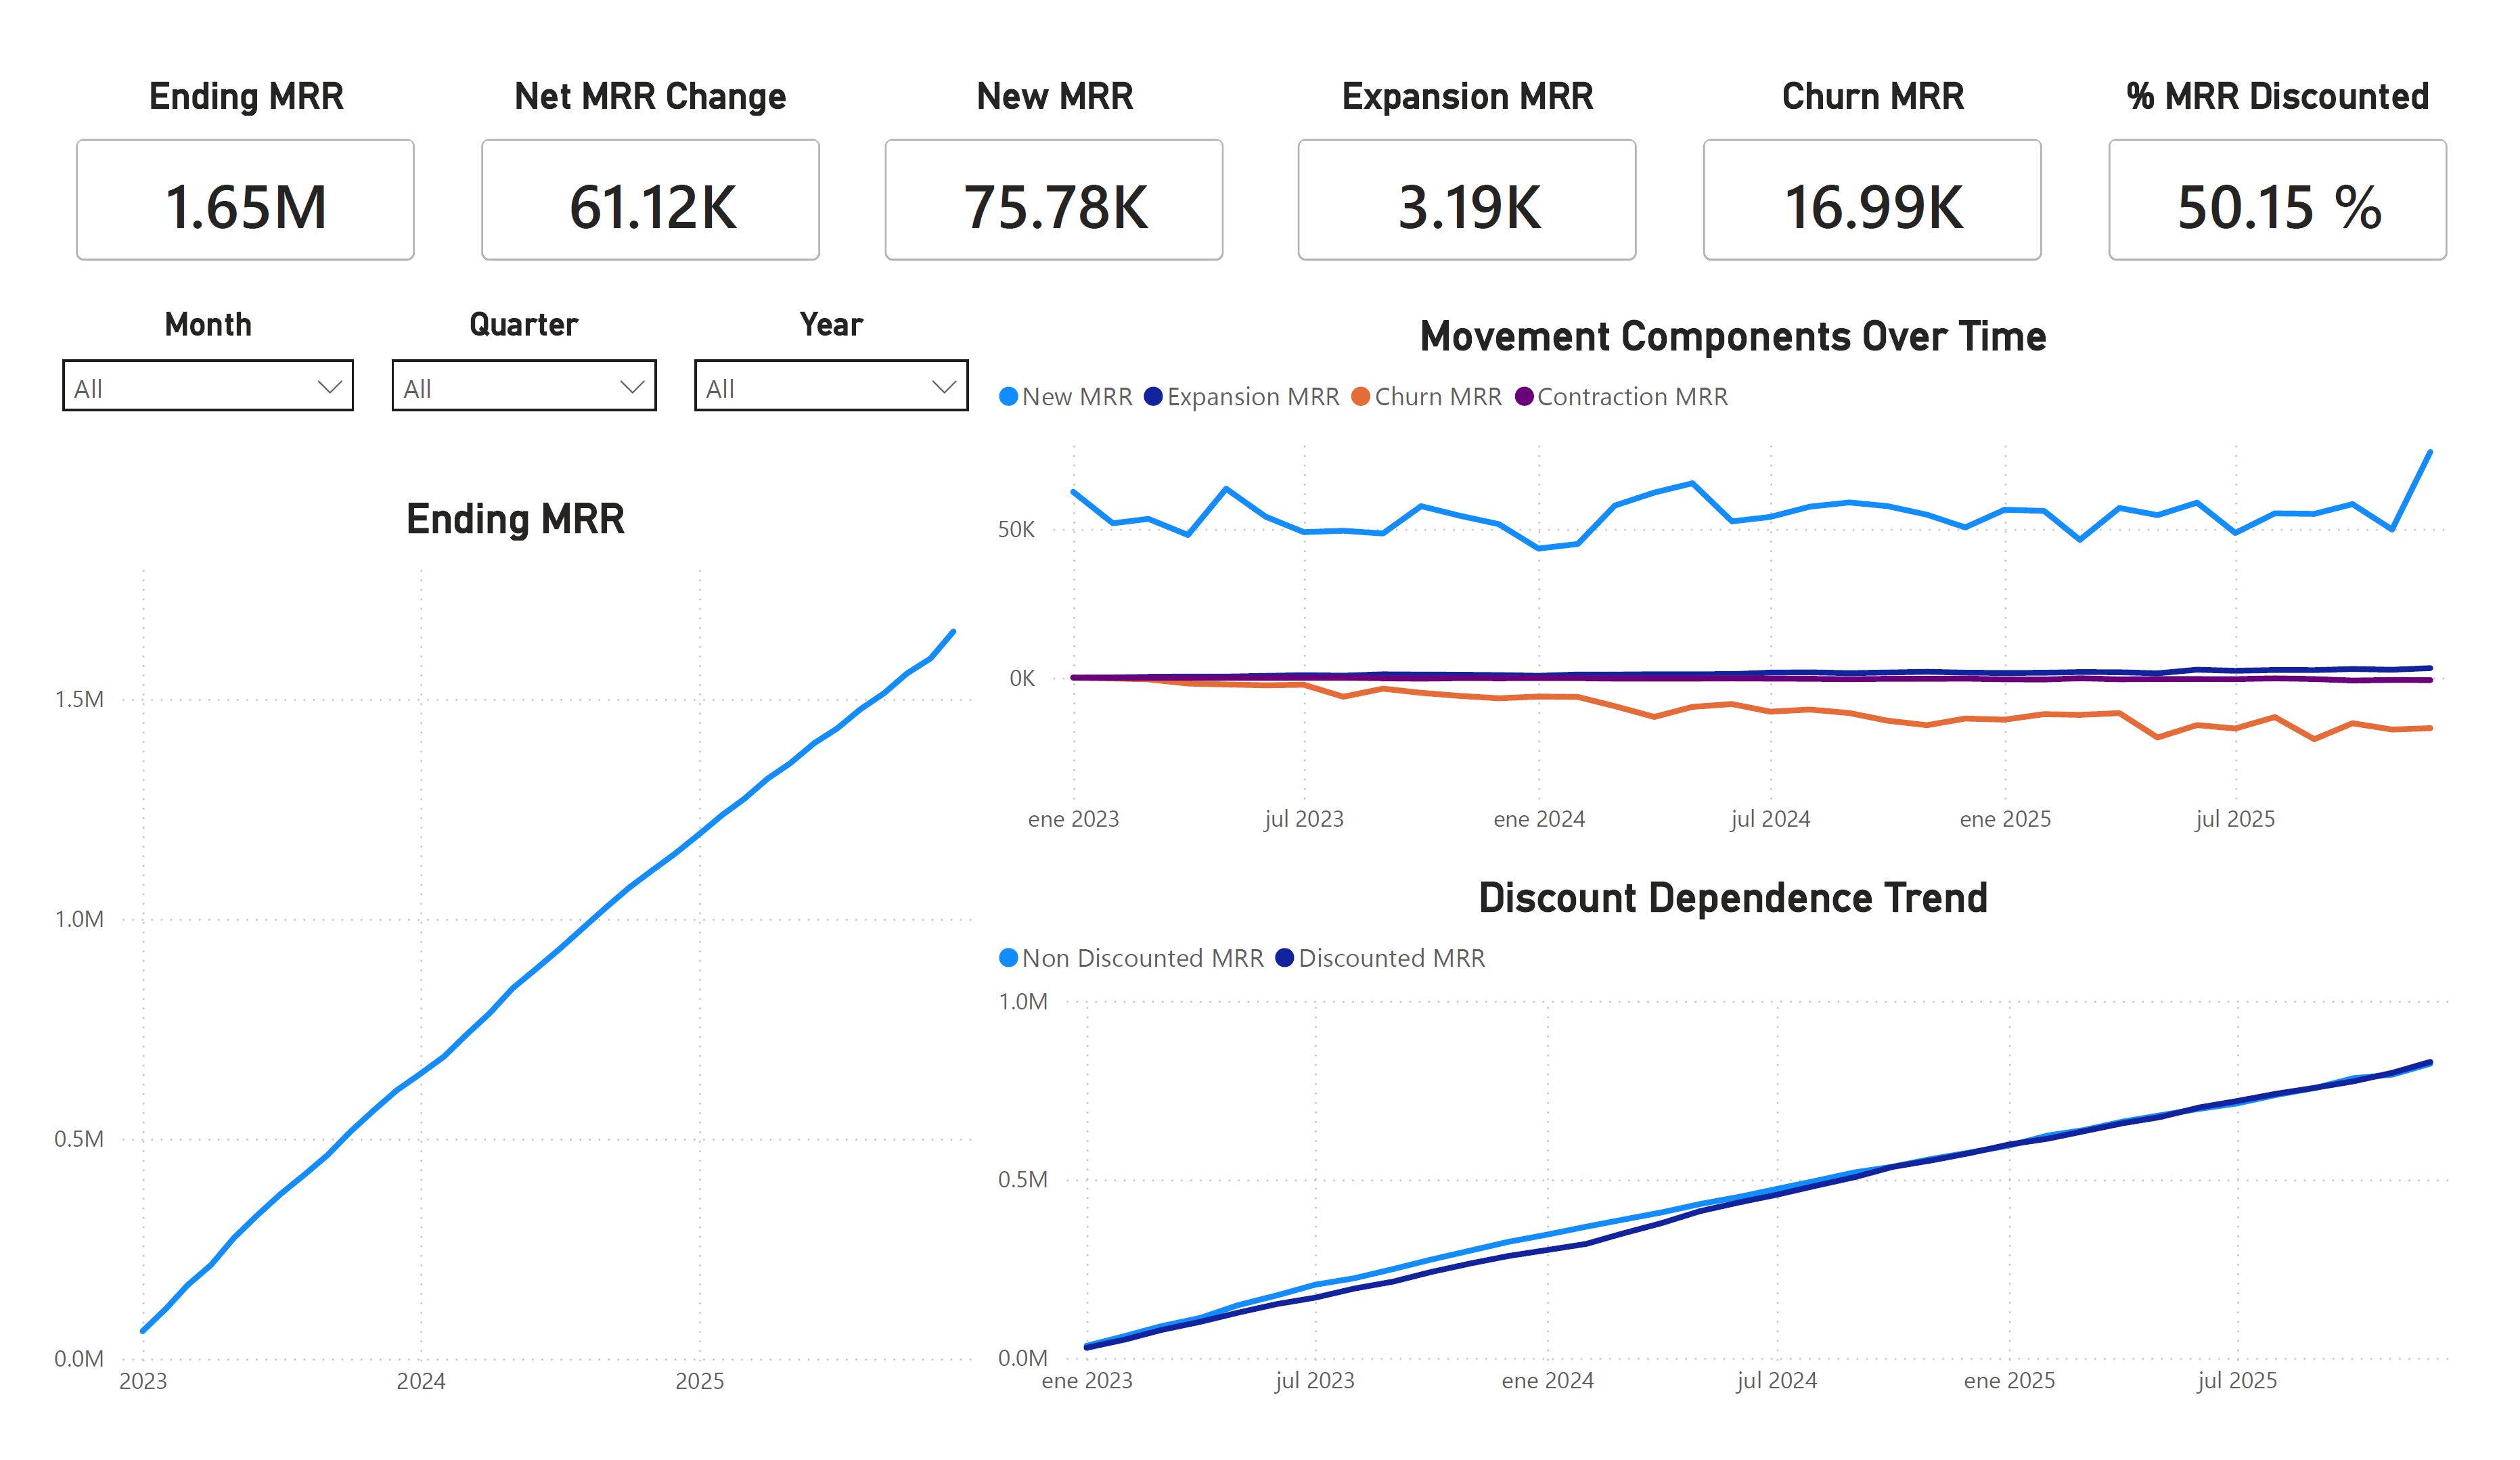

Layout of this report page (visuals, bound fields, positions):
{"tool":"powerbi","page":{"name":"Executive Overview","canvas":[1280,720],"ordinal":0},"visuals":[{"type":"cardVisual","title":"Ending MRR","fields":{"Data":["00_Measures.KPI - Ending MRR Card"]},"box":[0,0,212.7,130.2],"z":0},{"type":"cardVisual","title":"Net MRR Change","fields":{"Data":["00_Measures.KPI - Net MRR Change Card"]},"box":[212.7,0,212.7,130.2],"z":1000},{"type":"cardVisual","title":"New MRR","fields":{"Data":["00_Measures.KPI - New MRR Card"]},"box":[425.3,0,212.7,130.2],"z":2000},{"type":"cardVisual","title":"Expansion MRR","fields":{"Data":["00_Measures.KPI - Expansion MRR Card"]},"box":[642.3,0,212.7,130.2],"z":3000},{"type":"cardVisual","title":"Churn MRR","fields":{"Data":["00_Measures.KPI Churn MRR Card"]},"box":[855,0,212.7,130.2],"z":4000},{"type":"cardVisual","title":"% MRR Discounted","fields":{"Data":["00_Measures.KPI Pct MRR Discounted Card"]},"box":[1067.6,0,212.7,130.2],"z":5000},{"type":"lineChart","title":"Ending MRR","fields":{"Y":["Sum(mart vw_monthly_mrr_bridge.ending_mrr)"],"Category":["mart dim_date.month_start.Variation.Date Hierarchy.Year","mart dim_date.month_start.Variation.Date Hierarchy.Quarter","mart dim_date.month_start.Variation.Date Hierarchy.Month","mart dim_date.month_start.Variation.Date Hierarchy.Day"]},"box":[0,226.4,496.3,493.9],"z":6000},{"type":"lineChart","title":"Movement Components Over Time","fields":{"Y":["Sum(mart vw_monthly_mrr_bridge.new_mrr)","Sum(mart vw_monthly_mrr_bridge.expansion_mrr)","00_Measures.Churn MRR (Negative)","00_Measures.Contraction MRR (Negative)"],"Category":["mart dim_date.month_start.Variation.Date Hierarchy.Year","mart dim_date.month_start.Variation.Date Hierarchy.Quarter","mart dim_date.month_start.Variation.Date Hierarchy.Month","mart dim_date.month_start.Variation.Date Hierarchy.Day"]},"box":[496.2,130.2,784.1,295.1],"z":7000},{"type":"lineChart","title":"Discount Dependence Trend","fields":{"Category":["mart dim_date.month_start.Variation.Date Hierarchy.Year","mart dim_date.month_start.Variation.Date Hierarchy.Quarter","mart dim_date.month_start.Variation.Date Hierarchy.Month","mart dim_date.month_start.Variation.Date Hierarchy.Day"],"Y":["Sum(mart vw_monthly_discount_profile.non_discounted_mrr)","Sum(mart vw_monthly_discount_profile.discounted_mrr)"]},"box":[496.2,425.3,784.1,295.1],"z":8000},{"type":"slicer","title":"Month","fields":{"Values":["mart dim_date.month_num"]},"box":[0,130.6,172.9,82.1],"z":9000},{"type":"slicer","title":"Quarter","fields":{"Values":["mart dim_date.quarter"]},"box":[172.9,130.6,159.2,82.1],"z":10000},{"type":"slicer","title":"Year","fields":{"Values":["mart dim_date.year"]},"box":[332.1,130.6,164.2,82.1],"z":11000}]}

Visuals, with their boxes in screenshot pixels (x1, y1, x2, y2), scaled from the page's 1280x720 canvas onto the 2520x1460 screenshot:
"Ending MRR" cardVisual: 0 0 419 264
"Net MRR Change" cardVisual: 419 0 838 264
"New MRR" cardVisual: 837 0 1256 264
"Expansion MRR" cardVisual: 1265 0 1684 264
"Churn MRR" cardVisual: 1684 0 2102 264
"% MRR Discounted" cardVisual: 2102 0 2519 264
"Ending MRR" lineChart: 0 459 977 1459
"Movement Components Over Time" lineChart: 977 264 2519 863
"Discount Dependence Trend" lineChart: 977 863 2519 1459
"Month" slicer: 0 265 340 432
"Quarter" slicer: 340 265 654 432
"Year" slicer: 654 265 977 432
